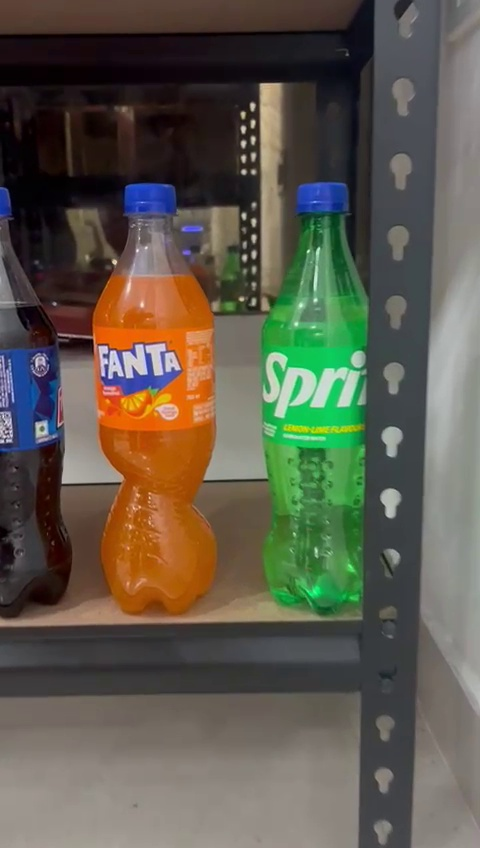Fanta: (89, 173, 230, 616)
Sprit: (258, 170, 370, 616)
